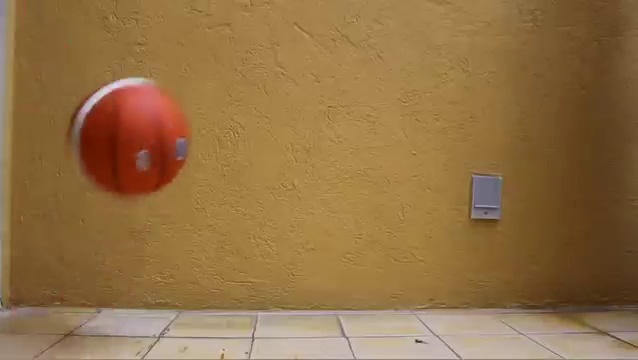ball: (65, 75, 191, 196)
